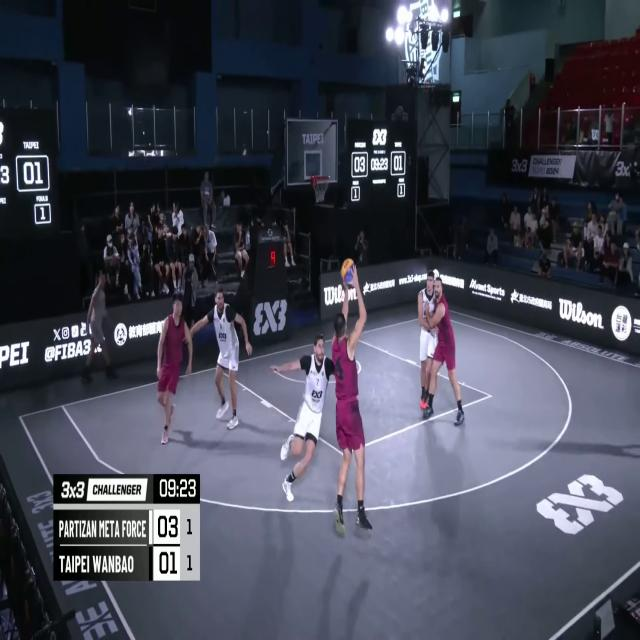ball: (341, 256, 359, 288)
hoop: (310, 170, 332, 206)
player: (276, 284, 334, 505), (331, 252, 375, 540), (192, 286, 253, 436), (422, 272, 466, 429), (157, 295, 193, 446), (417, 268, 444, 421)
